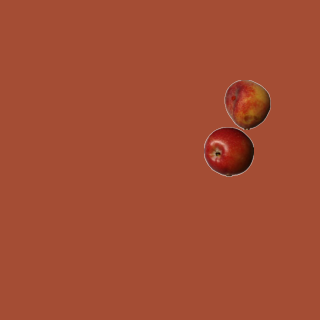Apple Braeburn: (203, 126, 253, 176)
Peach: (222, 79, 272, 129)
